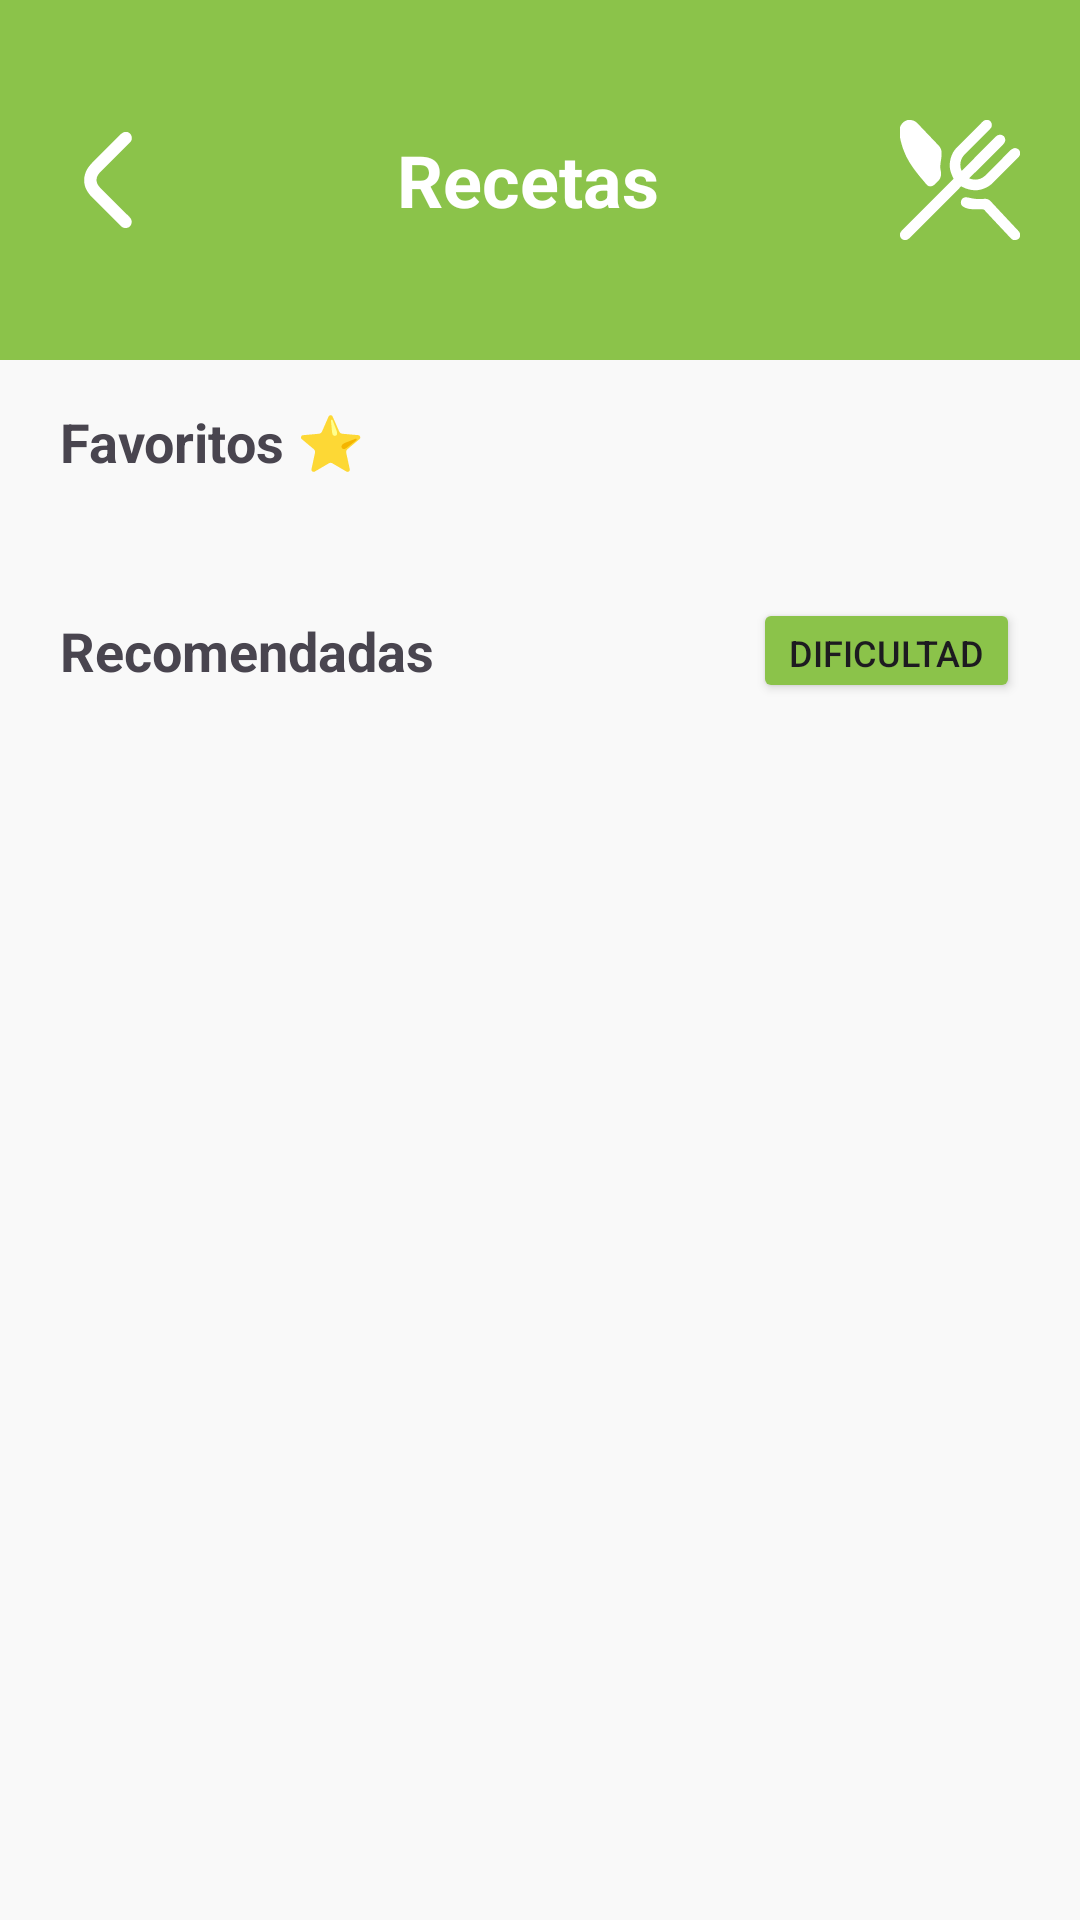

Screen size 1080 × 1920. Icon name, then its box in pixels as (left=x1, top=y1, right=x2, bottom=y2):
back arrow: (left=84, top=132, right=132, bottom=228)
